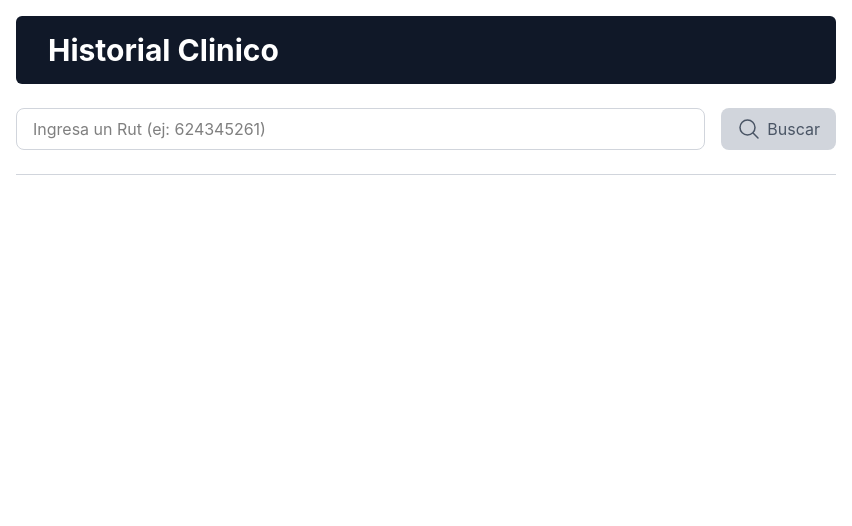
Test case: NutricionistaFichaClinica › busca un cliente por RUT y despliega su información e informes
In the field with placeholder "Ingresa un Rut (ej: 624345261)": (361, 129) 16,108 -> 705,150, type "222606497"
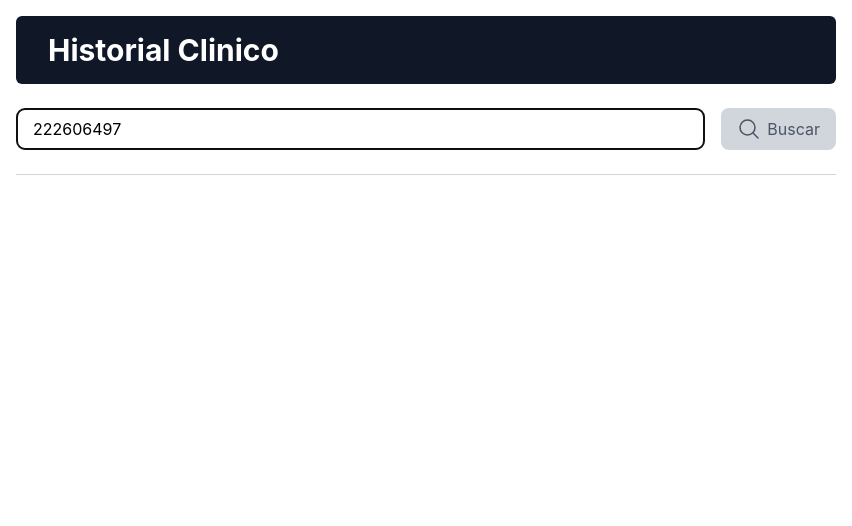
Click the button "Buscar": (779, 129) 721,108 -> 836,150
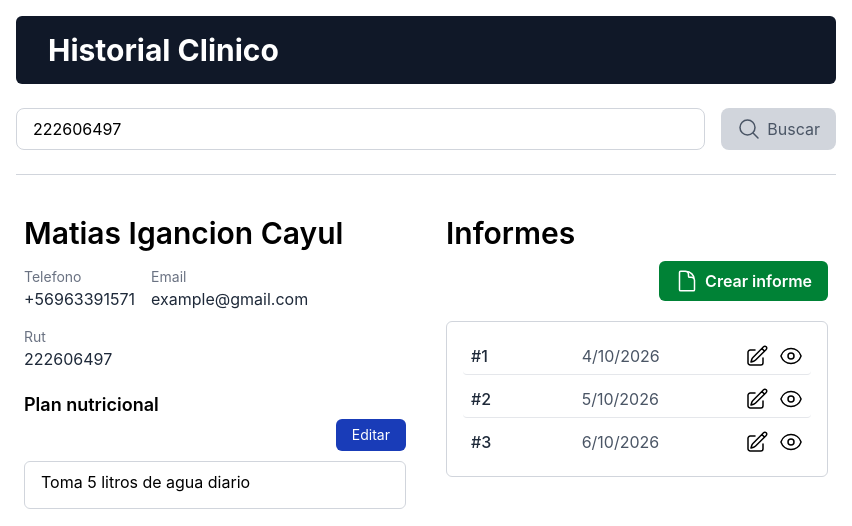
Result: the heading "Matias Igancion Cayul" is shown at 24,215 -> 344,251
Result: the text "+56963391571" is shown at 24,287 -> 135,311
Result: the text "example@gmail.com" is shown at 151,287 -> 308,311
